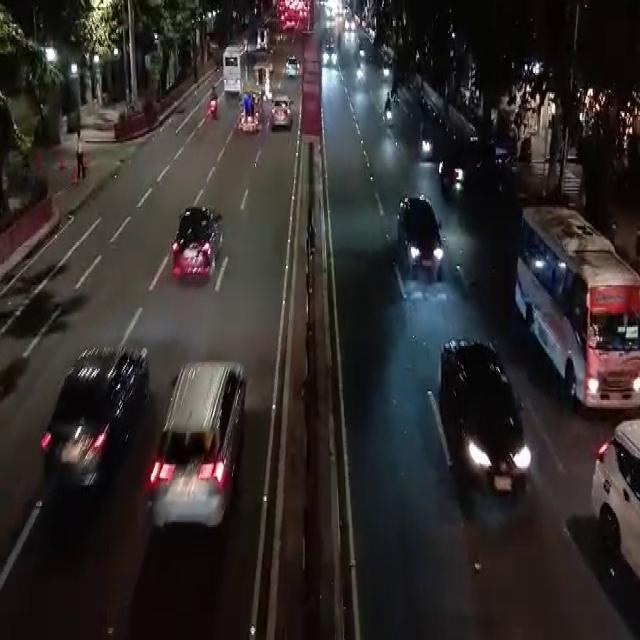bus: (525, 222, 636, 398), (221, 41, 247, 98)
car: (442, 340, 539, 512), (157, 379, 243, 556), (43, 346, 145, 488), (393, 186, 445, 300), (175, 201, 217, 280), (267, 88, 291, 144), (283, 52, 304, 81)
jeepney: (254, 59, 271, 100), (253, 21, 270, 55)
motorcycle: (208, 84, 220, 123), (384, 90, 392, 138)
